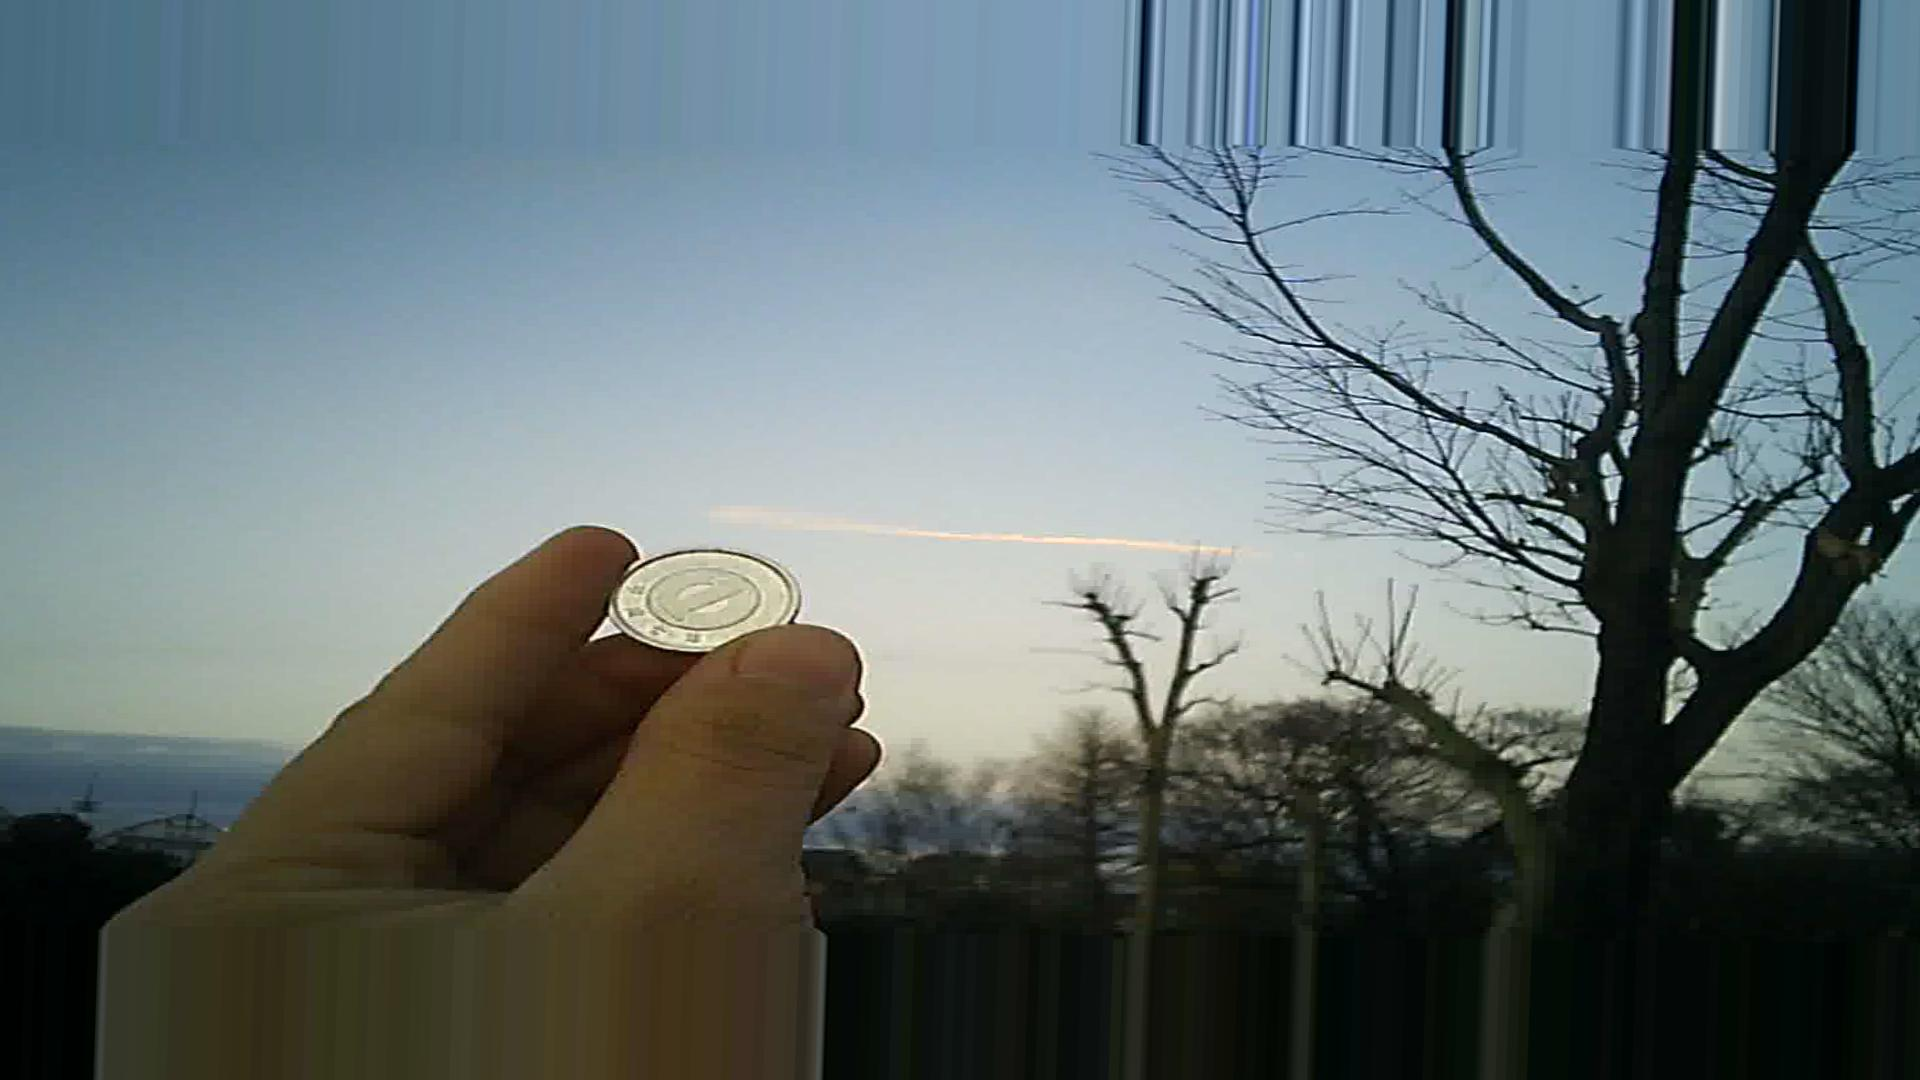1 Yen: (616, 535, 802, 676)
